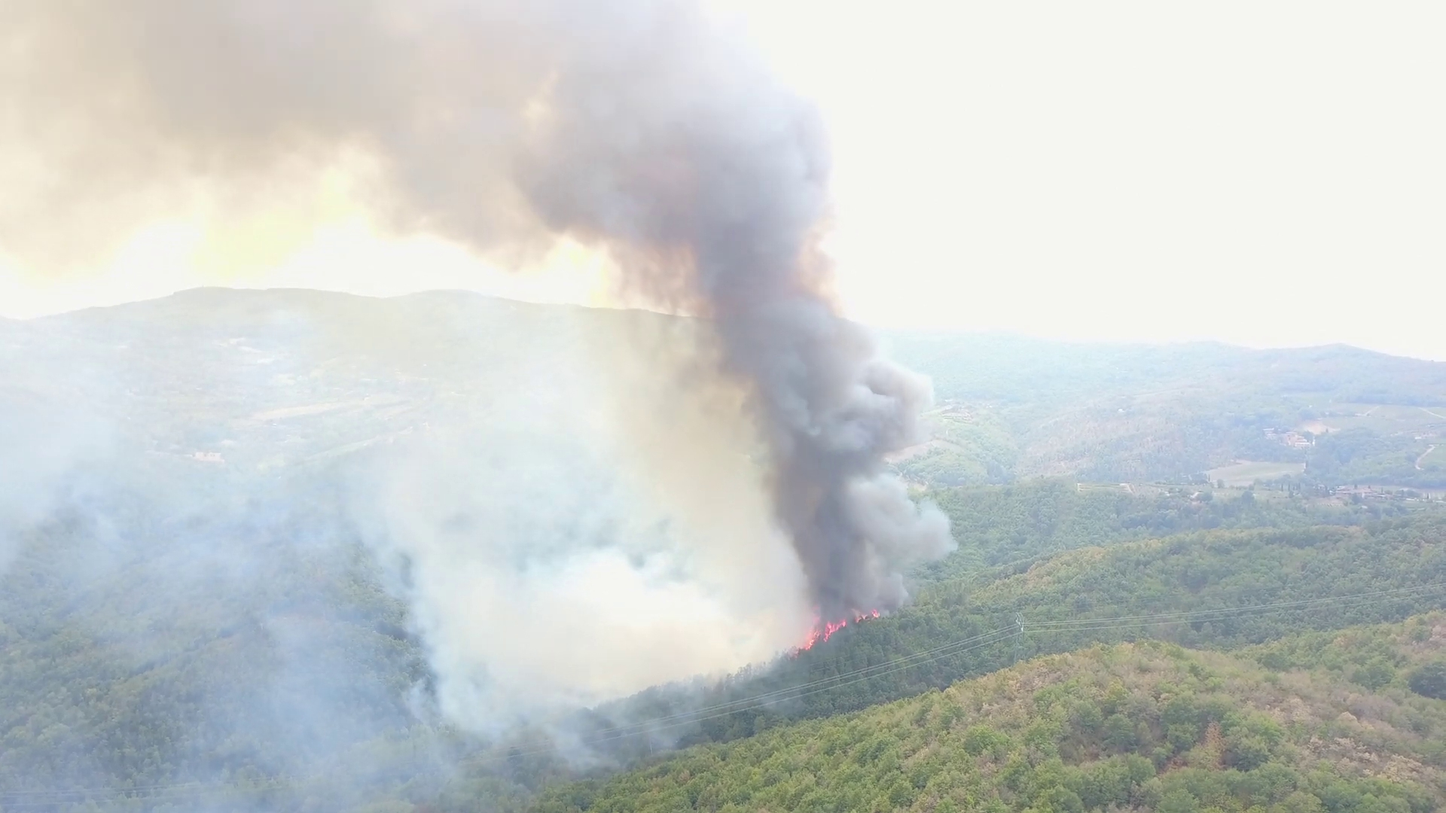forest_fire: (799, 619, 847, 649), (853, 610, 880, 622)
